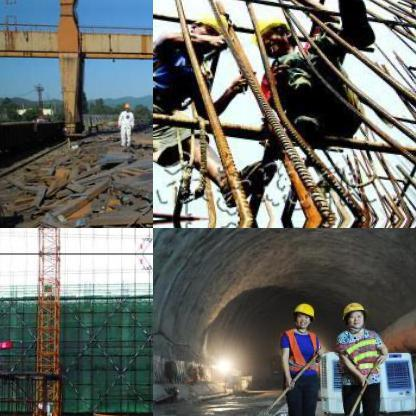Helmet: (247, 11, 301, 53), (186, 10, 230, 52), (339, 296, 367, 330), (291, 299, 315, 329), (119, 100, 130, 112)
